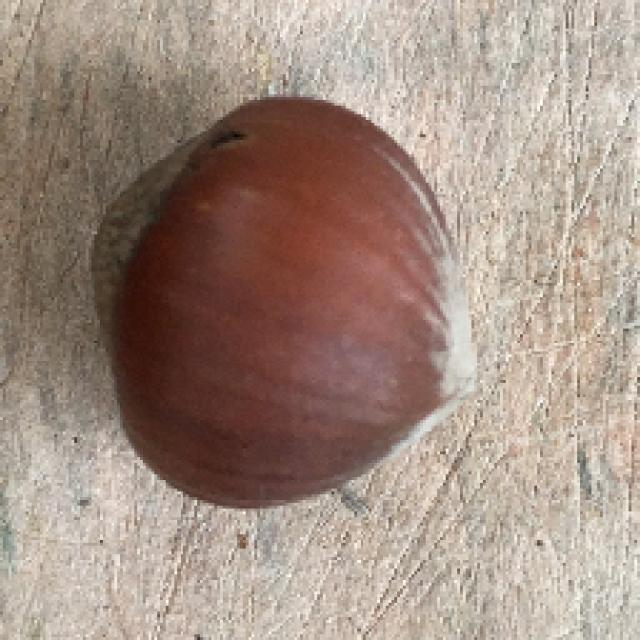damagedHazelnut: (89, 86, 480, 512)
